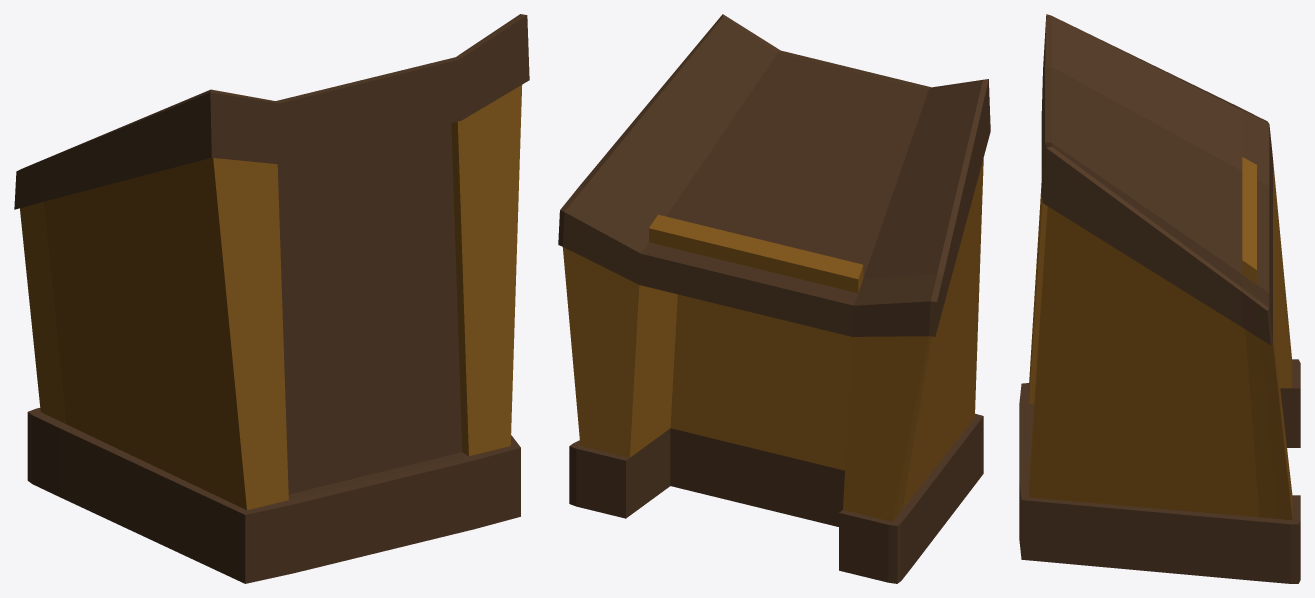
The model's file is Lecturn.glb.
3 views of the same model, side by side, from view 1: azimuth 30°, elevation 25°; view 2: azimuth 150°, elevation 25°; view 3: azimuth 270°, elevation 25° (orthographic). The views are drawn at different scales.
Visible parts, largest first — view 1: Cube; view 2: Cube; view 3: Cube.
Part boxes in pixels (box(x1,y1,x2,y2)): Cube: box(14, 14, 529, 583); Cube: box(558, 14, 990, 583); Cube: box(1019, 14, 1300, 583).
Bounding box in the file's own units: 1.23 × 1.27 × 0.7708.
